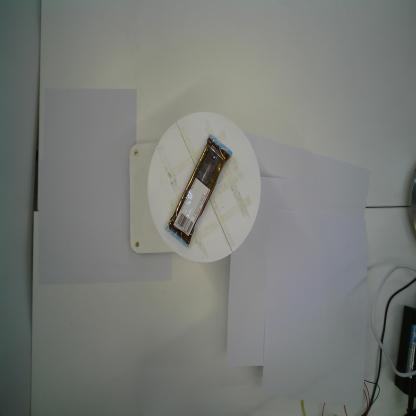Chocolate: (164, 132, 235, 247)
